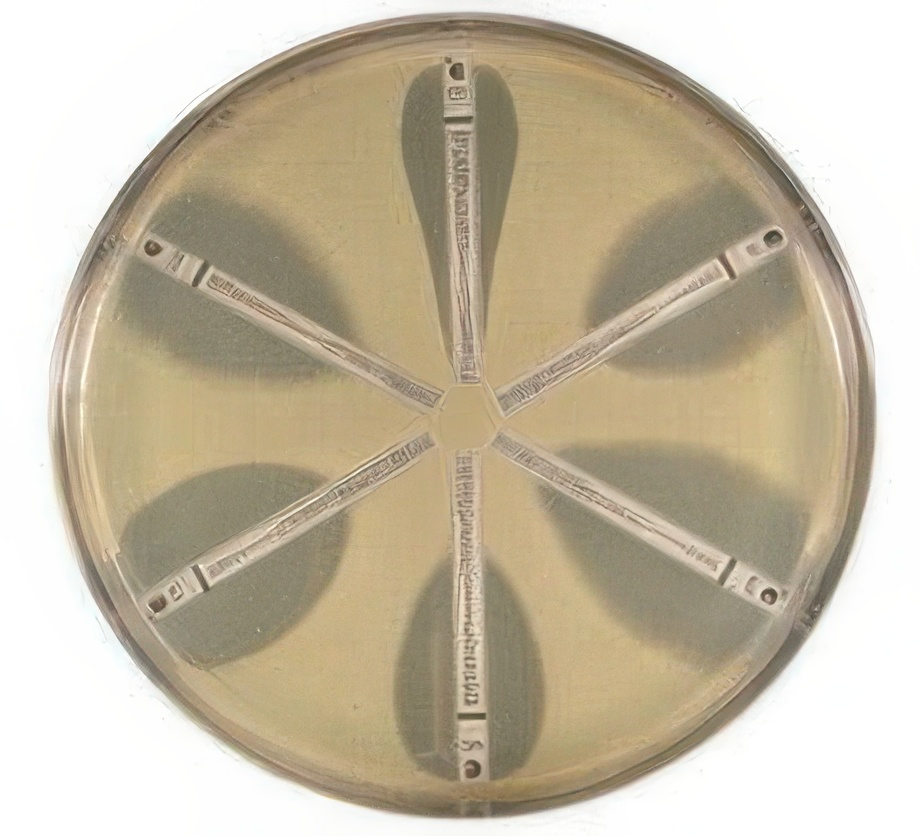line: (132, 423, 443, 627), (131, 228, 447, 420), (491, 220, 793, 419), (484, 425, 790, 617), (448, 448, 490, 782), (442, 52, 484, 386)
zone: (500, 386, 827, 685), (99, 416, 386, 689), (97, 167, 378, 426), (563, 170, 825, 412), (398, 60, 524, 354), (391, 562, 544, 782)
